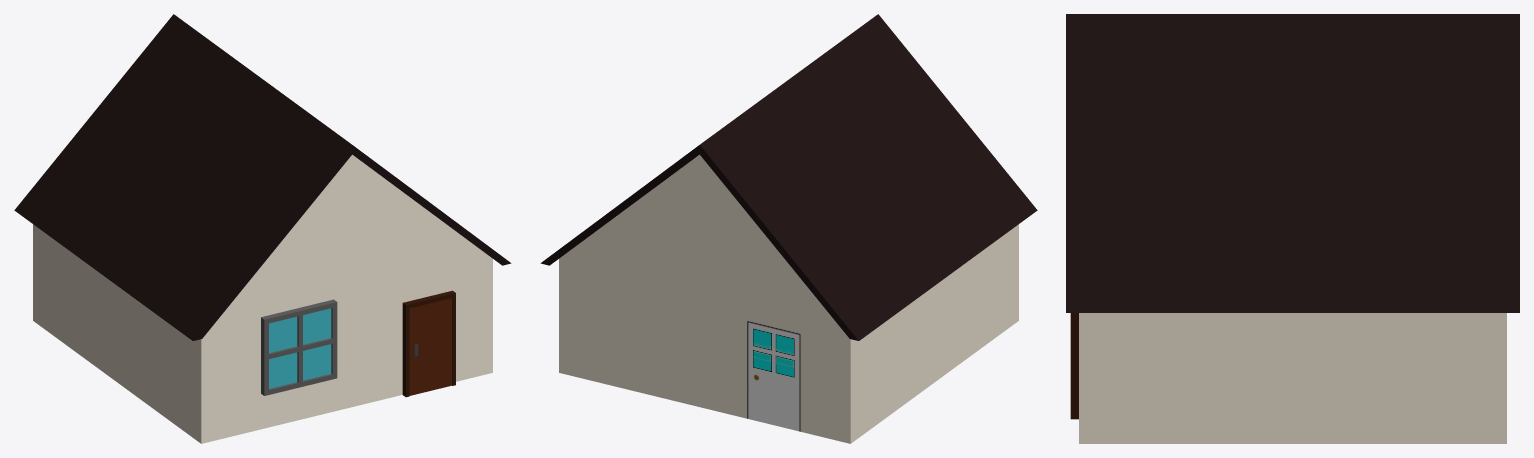
The model's file is DeliveryHome.obj.
3 renders of one model, left to right at view 1: azimuth 30°, elevation 25°; view 2: azimuth 150°, elevation 25°; view 3: azimuth 270°, elevation 25°, orthographic. The views are drawn at different scales.
Visible parts, largest first — view 1: HomeFin; view 2: HomeFin; view 3: HomeFin.
Boxes of the visible parts, x1,y1,x2,y2 form: HomeFin: (14, 14, 511, 443); HomeFin: (540, 14, 1037, 443); HomeFin: (1066, 14, 1519, 443).
Bounding box in the file's own units: 131 × 105 × 127.
